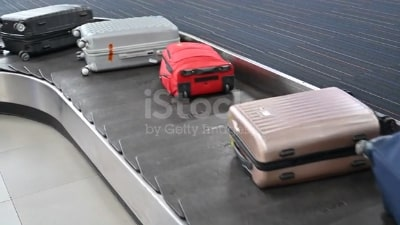baggage: (225, 87, 396, 192), (70, 14, 184, 77), (156, 40, 240, 105), (1, 3, 95, 61)
